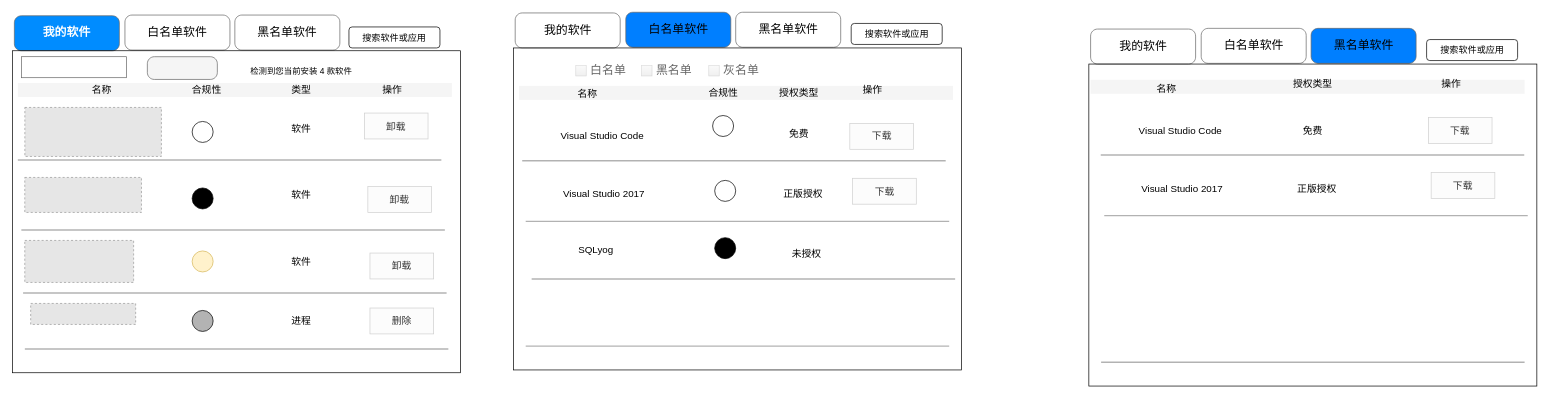
This 1549x398 diagram has some shape labels left out. Grey dashed boxes stand in for pictures. Each missing label, with the box of its shape:
您的名字: (21, 56, 126, 78)
检测: (147, 56, 217, 79)
